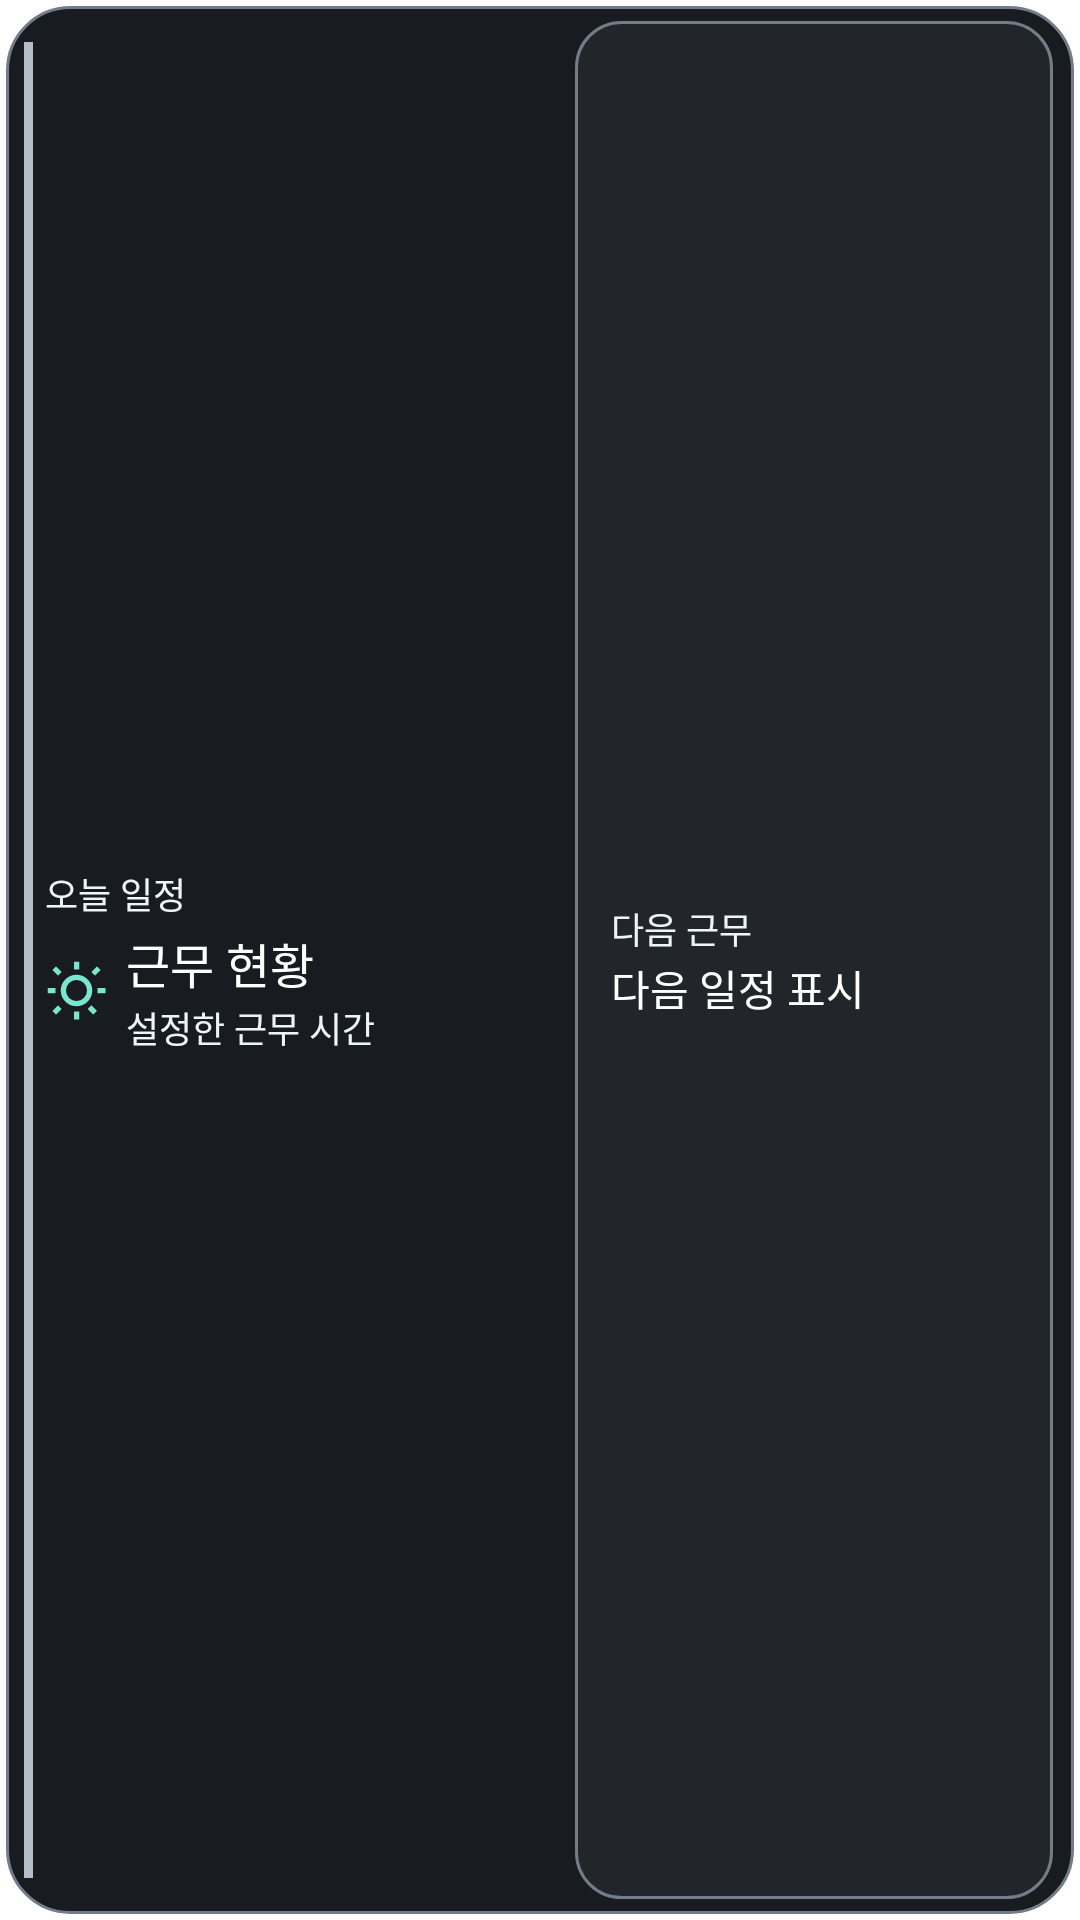

Icons on this 1080px×1920px Android screen, each with the point to tap as (x,y):
alarmpyo widget sun: (76,990)
